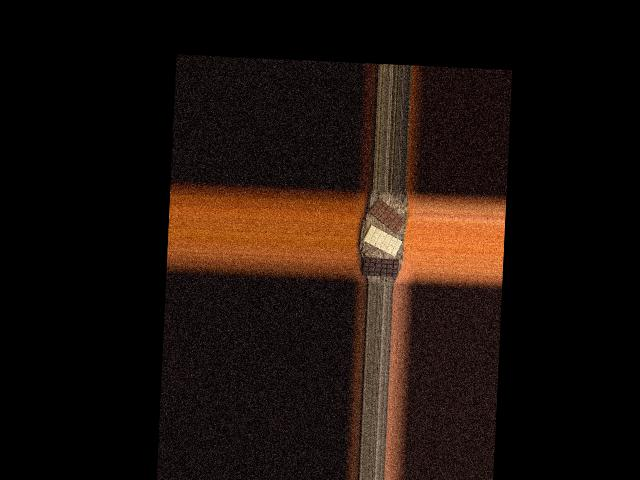chocolate: (361, 257, 398, 278)
